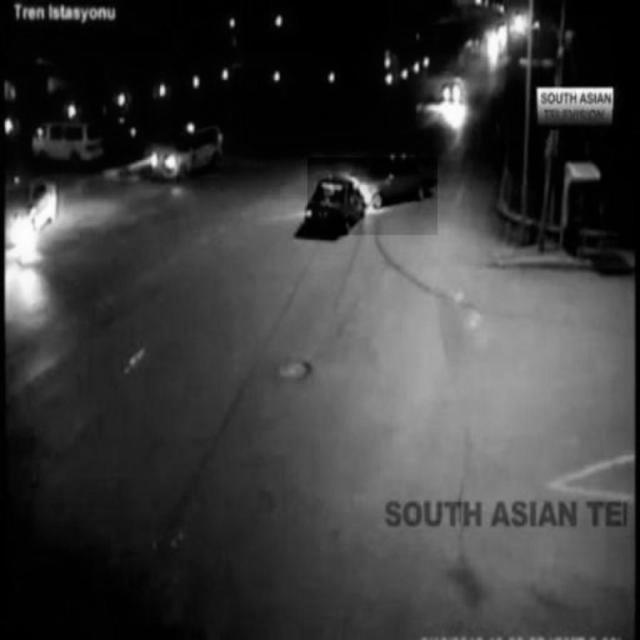accident: (309, 158, 439, 235)
